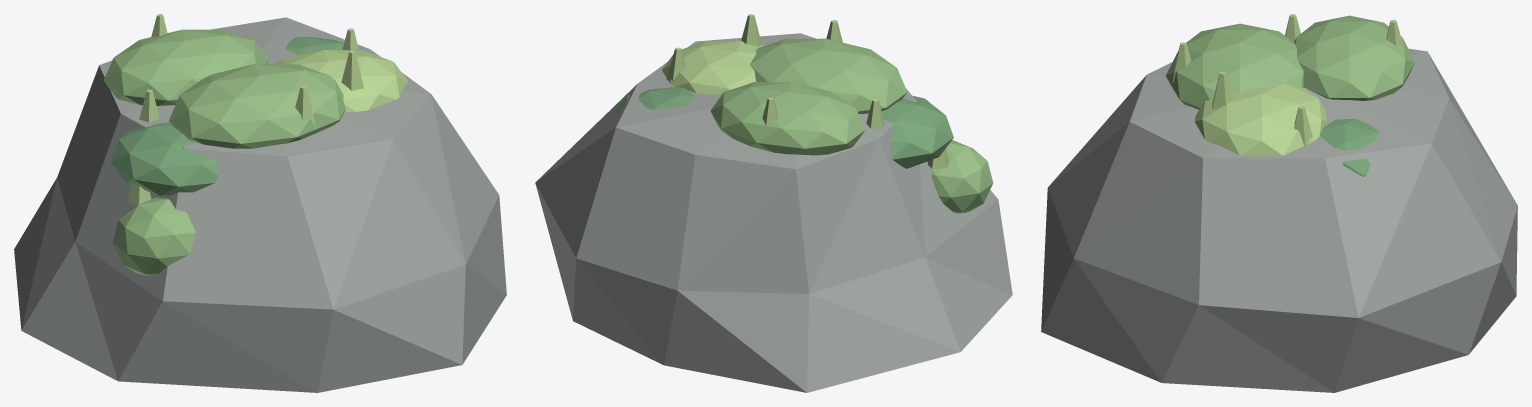
File: MossRock.glb
The picture shows the model from 3 angles, left to right: view 1: azimuth 30°, elevation 25°; view 2: azimuth 150°, elevation 25°; view 3: azimuth 270°, elevation 25°; orthographic projection. The views are drawn at different scales.
Parts seen in each view (by area): view 1: FTF_Nature_MossyRock_Small_StaticMesh; view 2: FTF_Nature_MossyRock_Small_StaticMesh; view 3: FTF_Nature_MossyRock_Small_StaticMesh.
Part boxes in pixels (<box>): FTF_Nature_MossyRock_Small_StaticMesh: <box>14,14,506,392</box>; FTF_Nature_MossyRock_Small_StaticMesh: <box>535,14,1012,392</box>; FTF_Nature_MossyRock_Small_StaticMesh: <box>1041,14,1517,392</box>.
Bounding box in the file's own units: 1.15 × 0.63 × 1.09.
